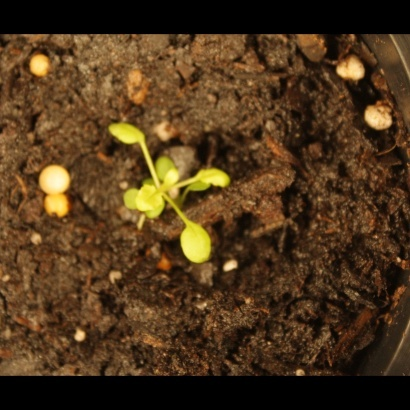leaf: (177, 221, 223, 268), (107, 117, 147, 149), (130, 183, 165, 218), (199, 164, 235, 189), (152, 153, 182, 179), (120, 183, 144, 212), (188, 174, 211, 197), (160, 165, 183, 188), (146, 196, 169, 219)
